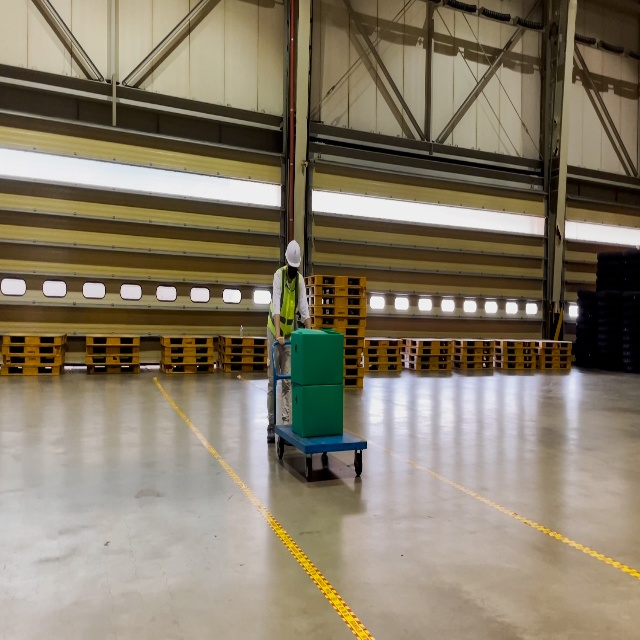Box: (290, 328, 344, 384), (292, 381, 343, 437)
Worker: (267, 240, 311, 447)
